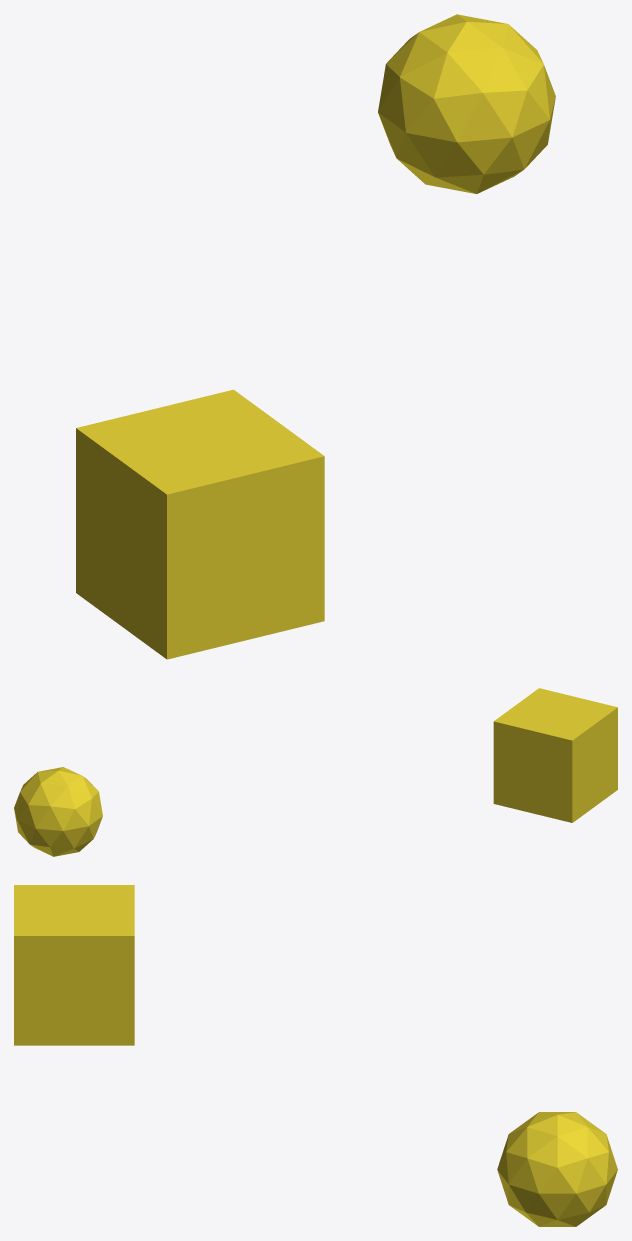
The model's file is animationTest.glb.
3 views of the same model, one above another, from view 1: azimuth 30°, elevation 25°; view 2: azimuth 150°, elevation 25°; view 3: azimuth 270°, elevation 25° (orthographic). The views are drawn at different scales.
Visible parts, largest first — view 1: Cube, Icosphere; view 2: Cube, Icosphere; view 3: Cube, Icosphere.
Boxes of the visible parts, x1,y1,x2,y2 form: Cube: (76,389,324,659); Icosphere: (378,14,555,193); Cube: (493,688,617,822); Icosphere: (14,767,102,856); Cube: (14,885,134,1045); Icosphere: (497,1112,617,1226).
Bounding box in the file's own units: 9.95 × 2 × 10.
